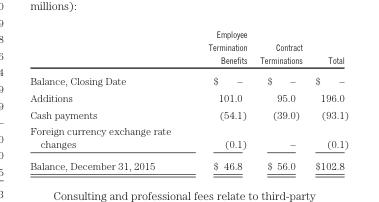table: (29, 28, 348, 170)
table column: (29, 28, 188, 170), (188, 28, 252, 170), (252, 28, 308, 170), (308, 28, 348, 170)
table column header: (29, 28, 348, 69)
table row: (29, 28, 348, 69), (29, 122, 348, 154), (29, 69, 348, 89), (29, 105, 348, 122), (29, 89, 348, 105), (29, 154, 348, 170)
